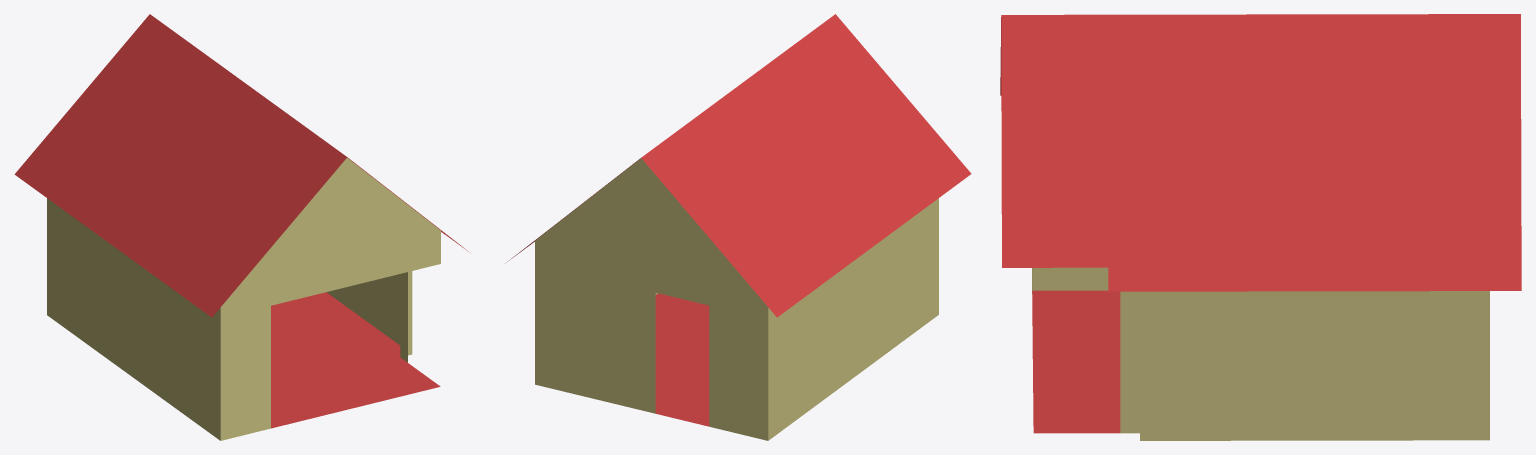
The picture shows the model from 3 angles, left to right: view 1: azimuth 30°, elevation 25°; view 2: azimuth 150°, elevation 25°; view 3: azimuth 270°, elevation 25°; orthographic projection. The views are drawn at different scales.
Bounding box in the file's own units: 13.3 × 16.45 × 12.19.
